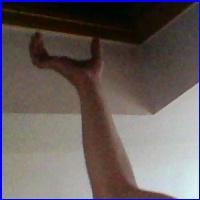space: (21, 28, 113, 82)
